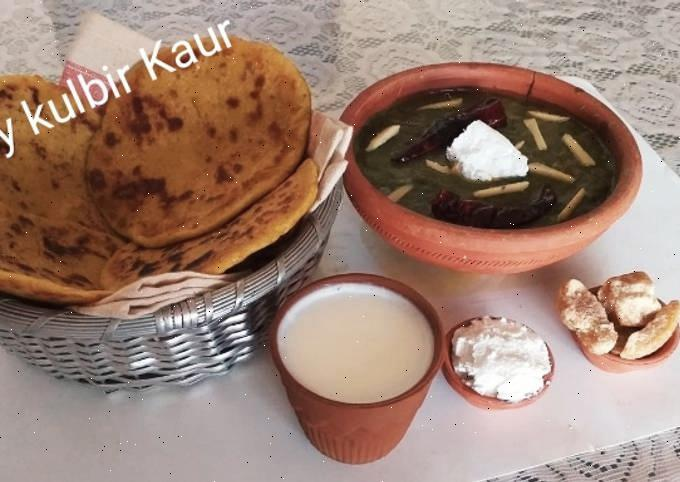saag: (358, 90, 625, 230)
